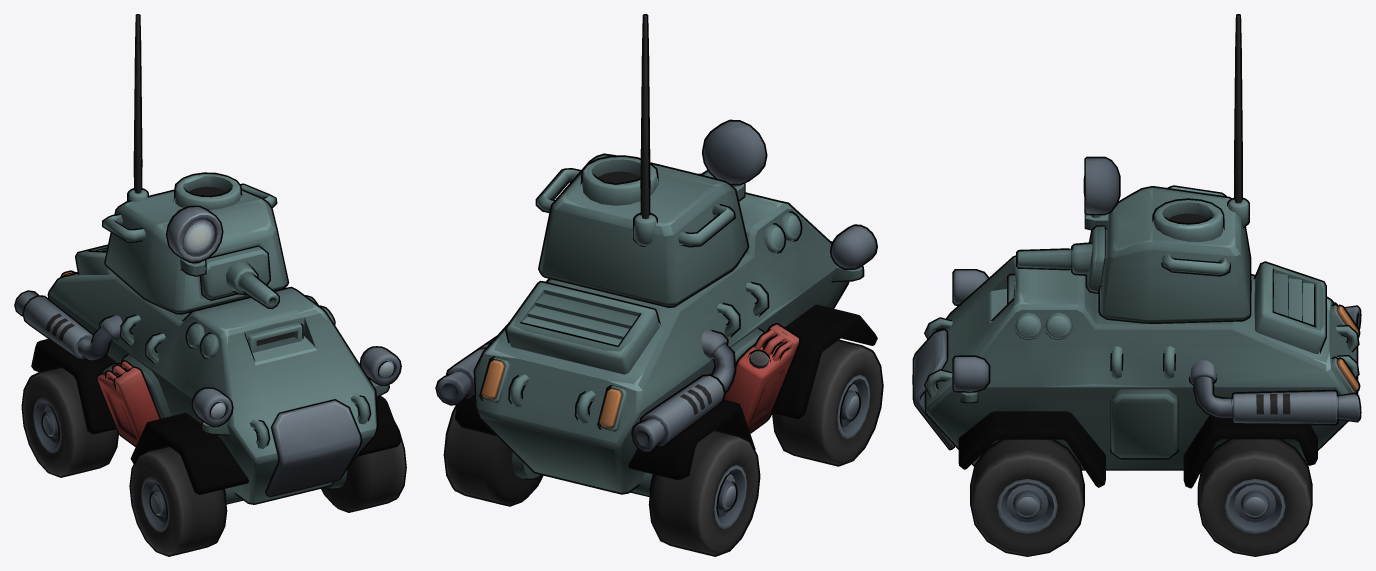
Rendered from Tonk.fbx.
3 views of the same model, side by side, from view 1: azimuth 30°, elevation 25°; view 2: azimuth 150°, elevation 25°; view 3: azimuth 270°, elevation 25° (orthographic). The views are drawn at different scales.
Parts seen in each view (by area): view 1: Cube.007; view 2: Cube.007; view 3: Cube.007.
Boxes of the visible parts, x1,y1,x2,y2 form: Cube.007: (14,14,406,556); Cube.007: (435,14,883,556); Cube.007: (912,14,1361,556).
Bounding box in the file's own units: 2.81 × 5.14 × 4.45.
